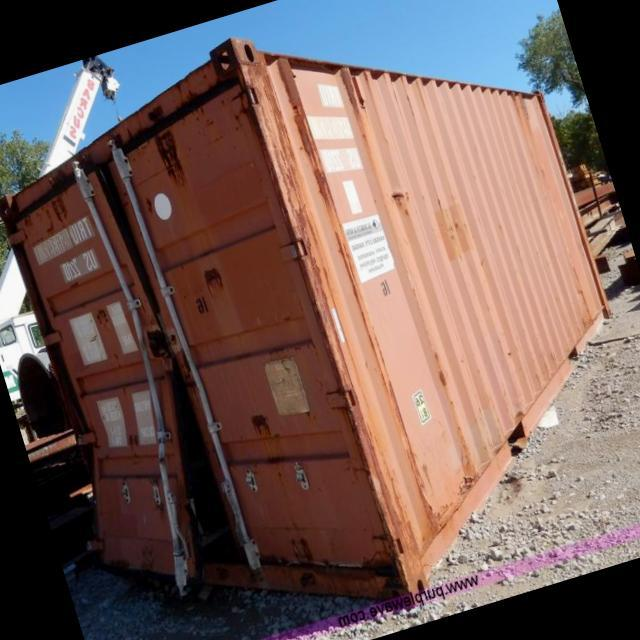hole: (26, 123, 277, 619)
rust: (238, 46, 402, 419), (135, 90, 195, 191), (276, 512, 329, 590), (416, 329, 468, 406), (191, 248, 237, 304), (241, 399, 283, 453), (377, 175, 419, 223)
